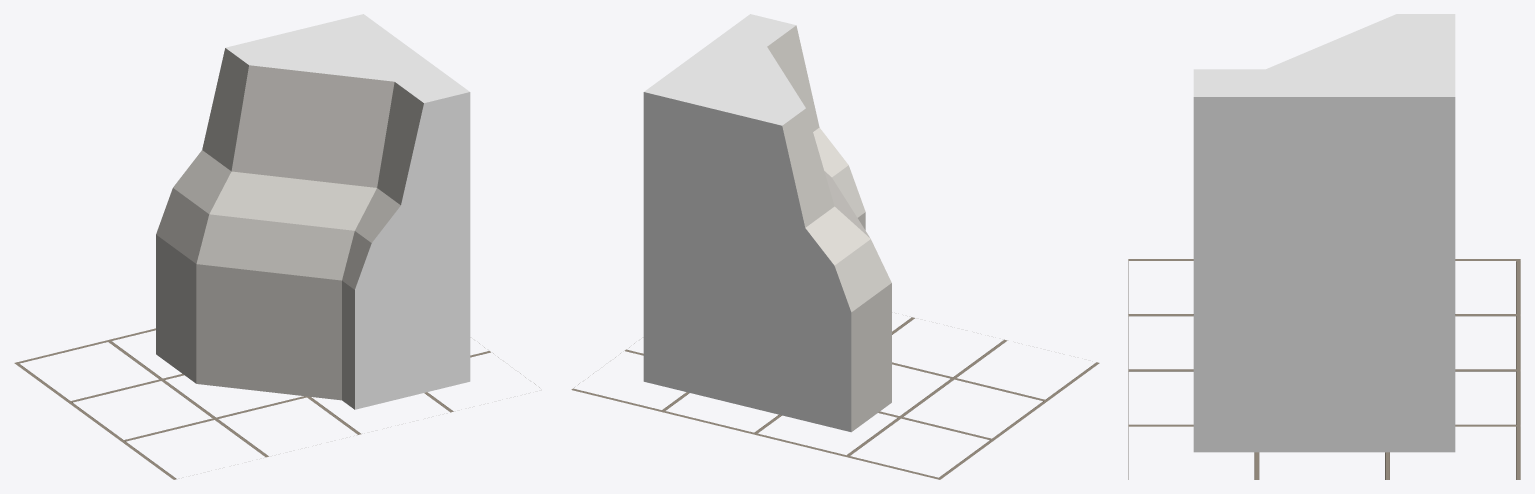
File: Basic_Esse_Base_2x2.glb
The picture shows the model from 3 angles, left to right: view 1: azimuth 30°, elevation 25°; view 2: azimuth 150°, elevation 25°; view 3: azimuth 270°, elevation 25°; orthographic projection. The views are drawn at different scales.
Visible parts, largest first — view 1: Basic_Esse_Base_2x2, Floor; view 2: Basic_Esse_Base_2x2, Floor; view 3: Basic_Esse_Base_2x2, Floor.
Boxes of the visible parts, x1,y1,x2,y2 form: Basic_Esse_Base_2x2: (156, 14, 470, 409); Floor: (14, 328, 539, 479); Basic_Esse_Base_2x2: (643, 14, 891, 432); Floor: (571, 317, 1099, 479); Basic_Esse_Base_2x2: (1193, 14, 1455, 452); Floor: (1128, 259, 1520, 479).
Size of the model in its own units: 400 by 300 by 300.
3 materials, 1 textured.
